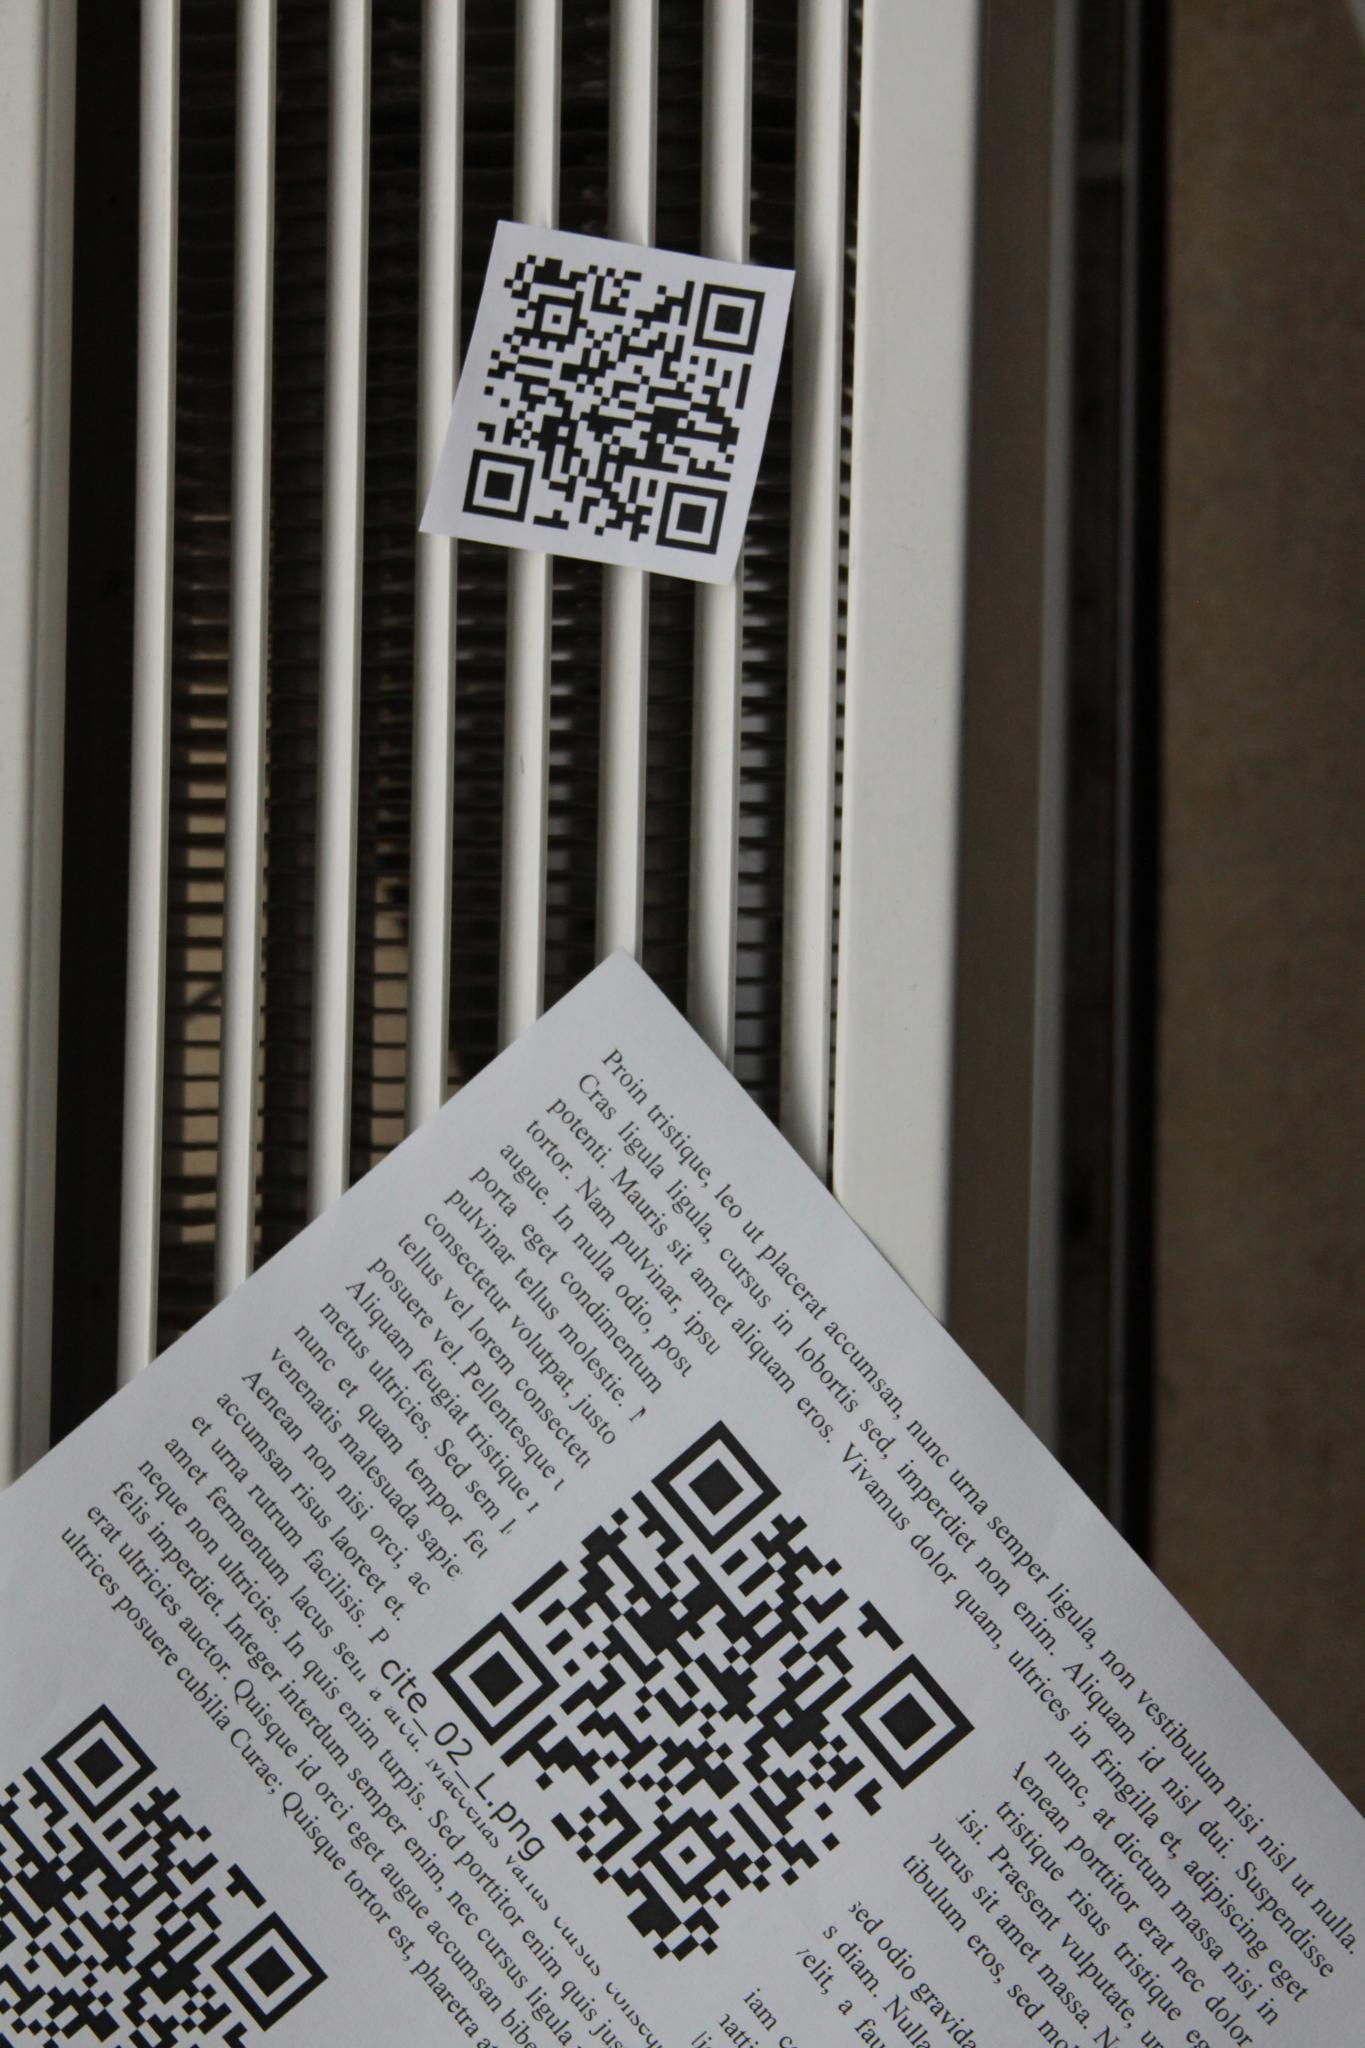Finder pattern: (826, 1641, 973, 1792), (644, 1418, 798, 1561), (424, 1608, 556, 1745), (197, 1905, 341, 2030), (37, 1695, 165, 1818), (640, 474, 751, 568), (449, 445, 548, 525), (687, 280, 768, 356)
